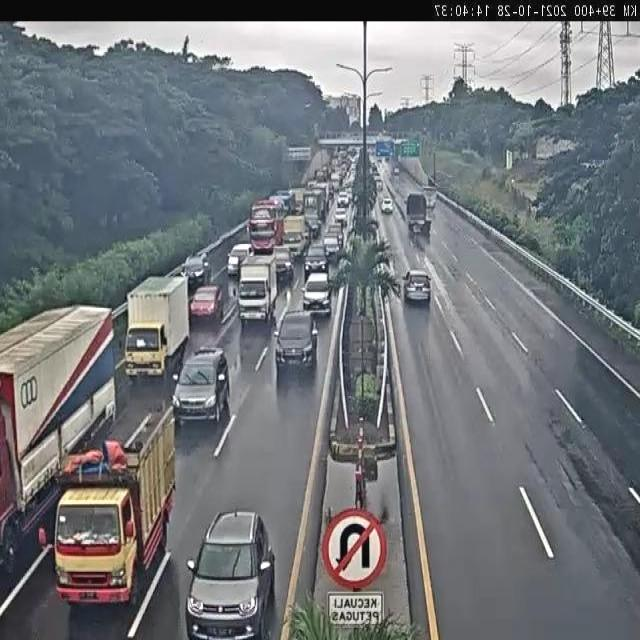Bus: (248, 201, 284, 254), (288, 188, 307, 215)
Car: (184, 508, 276, 640), (172, 346, 232, 427), (274, 309, 318, 382), (301, 272, 332, 315), (190, 284, 223, 324), (403, 269, 431, 305), (184, 253, 210, 289), (227, 243, 252, 278), (274, 246, 296, 283), (304, 244, 328, 276), (323, 231, 341, 257), (334, 205, 348, 225), (338, 190, 350, 208), (381, 196, 393, 214), (375, 177, 383, 191)
Truck: (0, 306, 120, 588), (47, 410, 174, 608), (126, 274, 192, 382), (235, 251, 278, 327), (302, 189, 326, 234), (282, 215, 307, 257)
